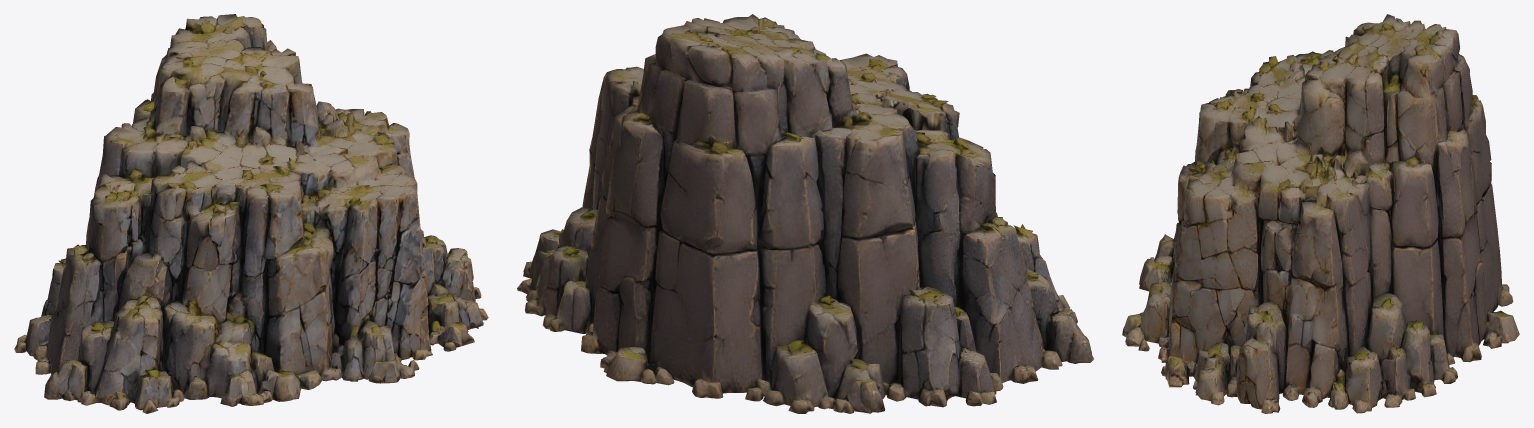
Rendered from gm-rock-1k-f40e26c2711a.glb.
3 renders of one model, left to right at view 1: azimuth 30°, elevation 25°; view 2: azimuth 150°, elevation 25°; view 3: azimuth 270°, elevation 25°, orthographic. The views are drawn at different scales.
Visible parts, largest first — view 1: Tropical_Rock_Formation; view 2: Tropical_Rock_Formation; view 3: Tropical_Rock_Formation.
Boxes of the visible parts, x1,y1,x2,y2 form: Tropical_Rock_Formation: [14, 14, 488, 413]; Tropical_Rock_Formation: [517, 14, 1093, 413]; Tropical_Rock_Formation: [1122, 14, 1519, 413].
Bounding box in the file's own units: 12 × 7 × 9.
Materials: 1 (1 with a texture image).
